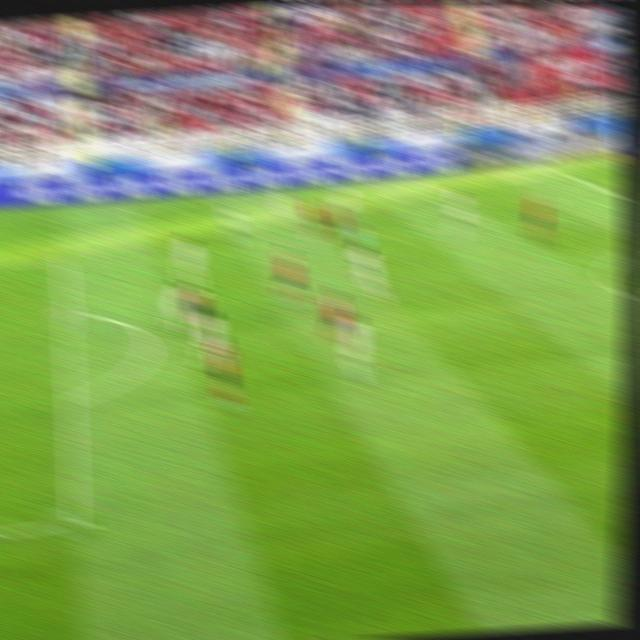bigarea_bottom_inner: (50, 505, 98, 539)
bigarea_top_inner: (50, 249, 77, 270)
bottom_arc_area_intersection: (52, 385, 92, 416)
midline_top_intersection: (553, 163, 572, 177)
top_arc_area_intersection: (49, 298, 85, 329)
